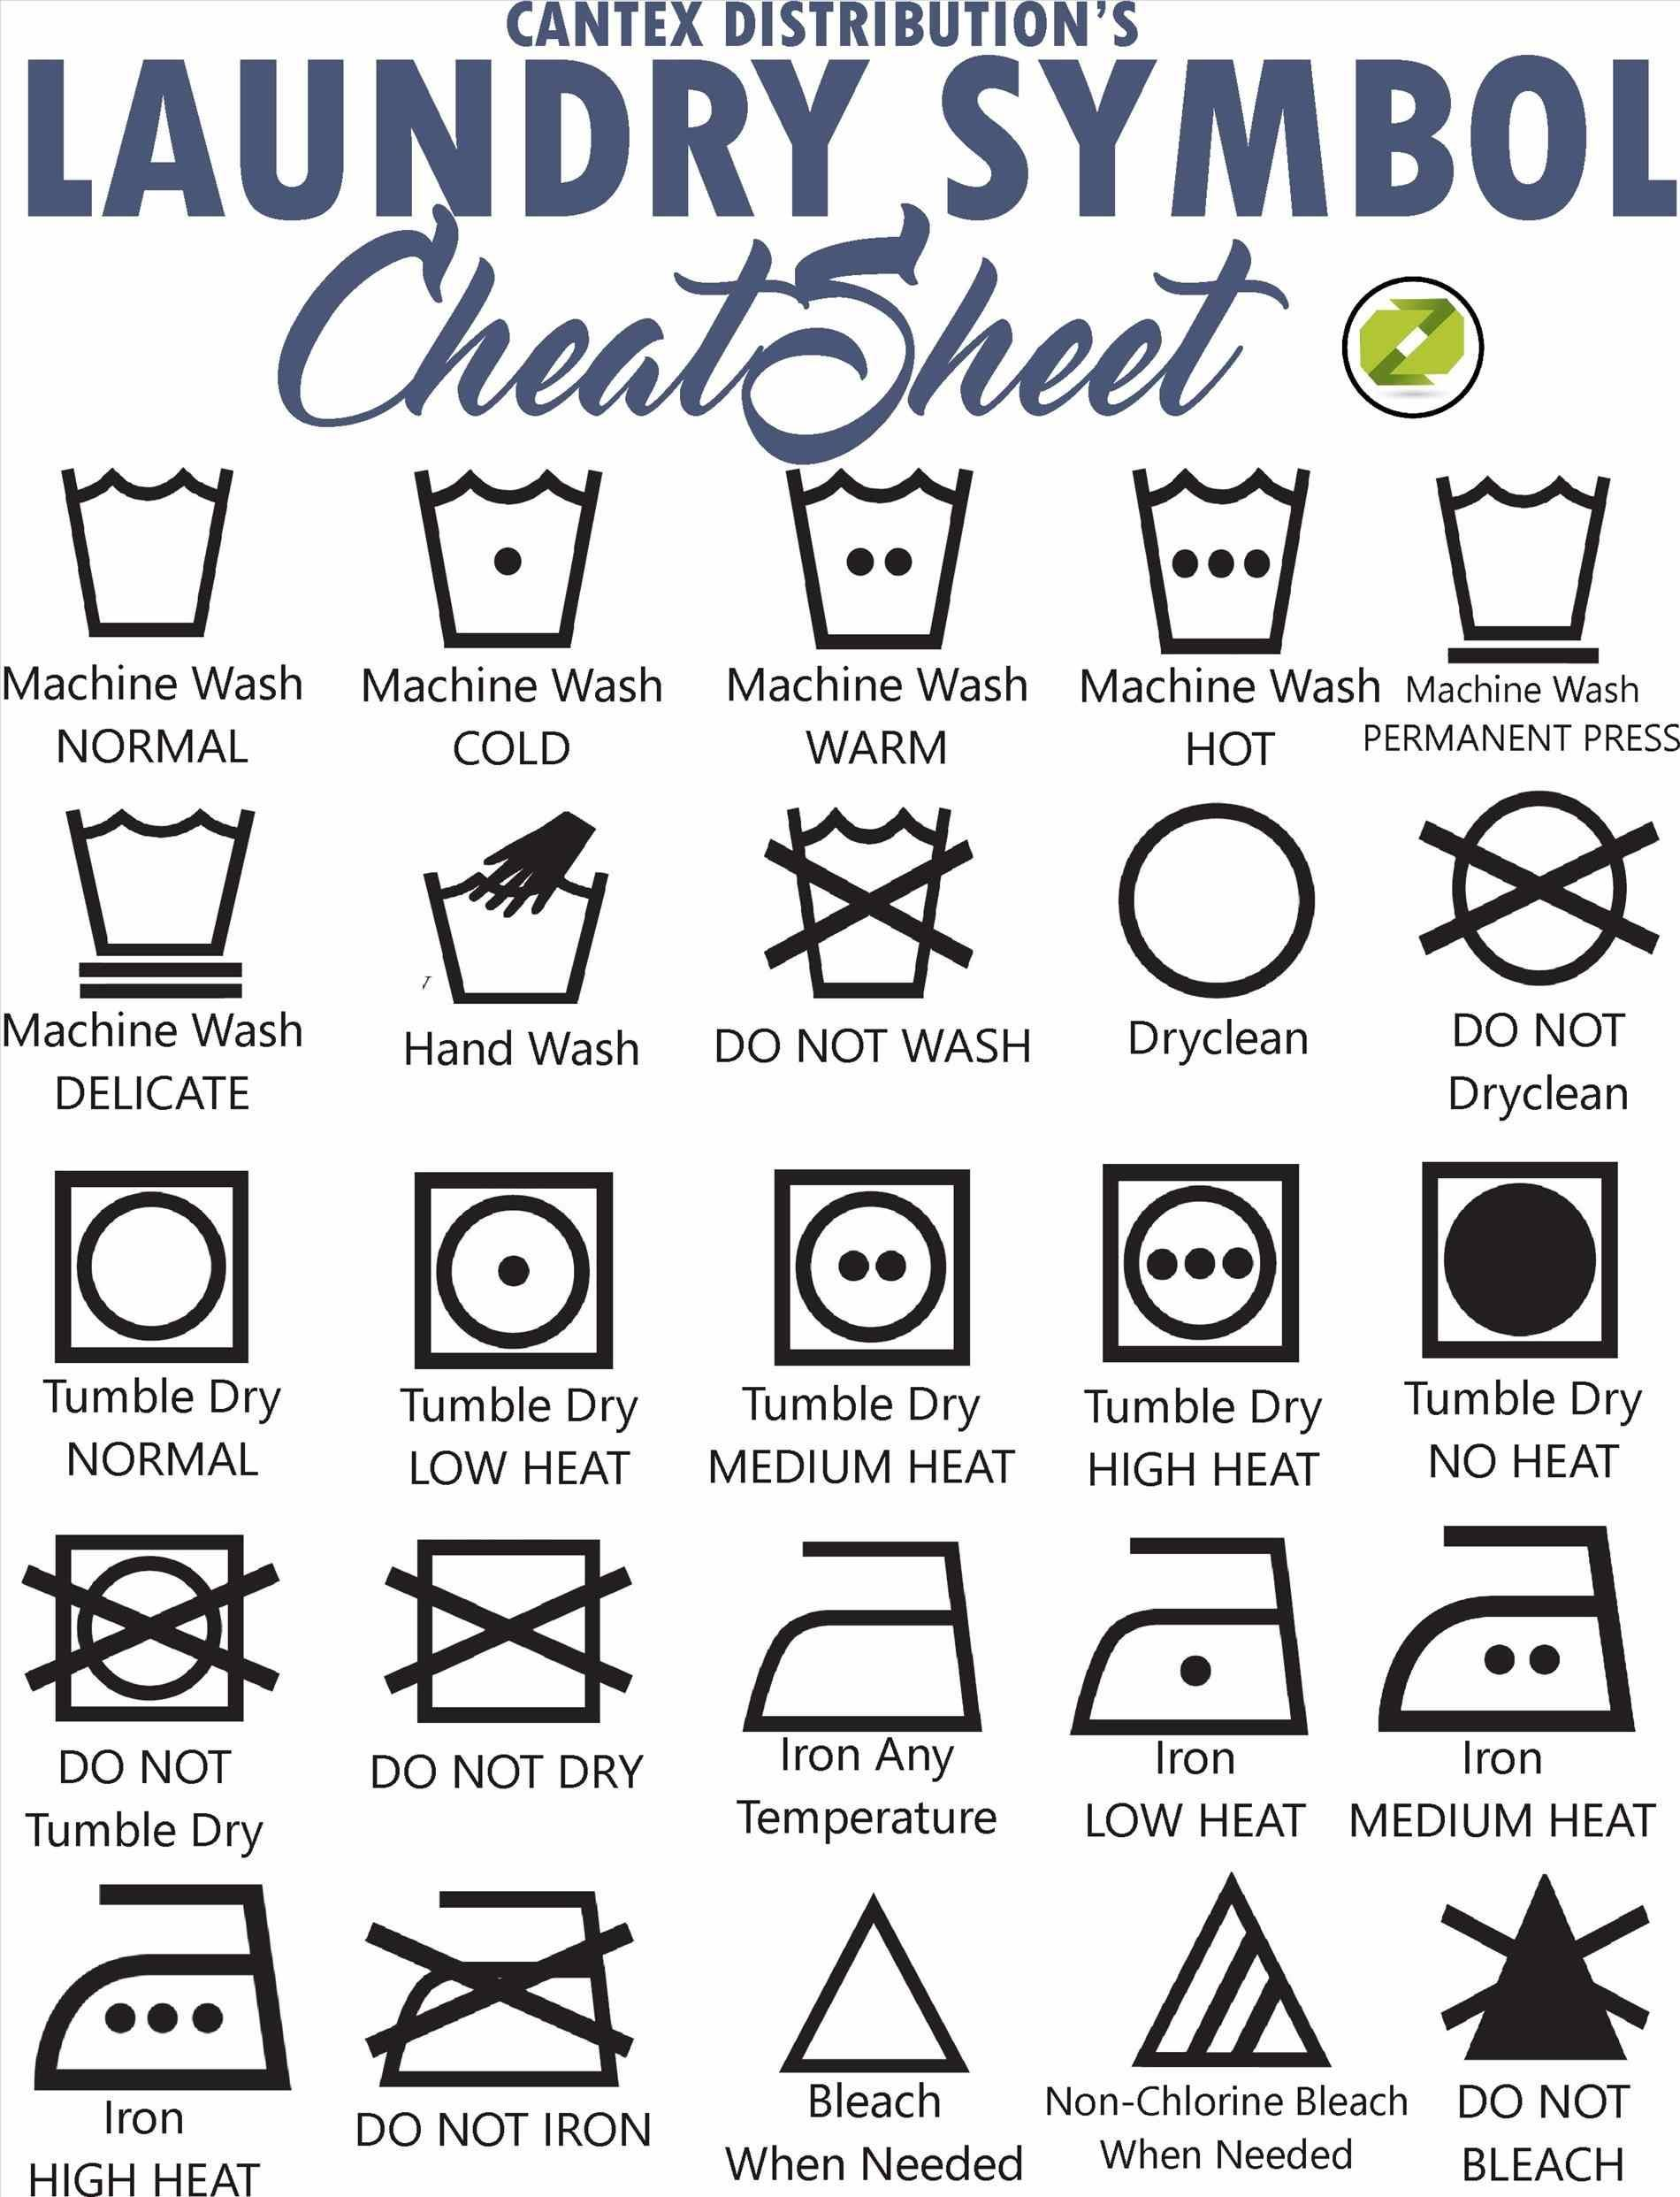do_not_bleach: (1410, 1858, 1675, 2077)
do_not_dry_clean: (1396, 789, 1671, 997)
do_not_iron: (346, 1883, 662, 2103)
do_not_wash: (732, 789, 997, 995)
